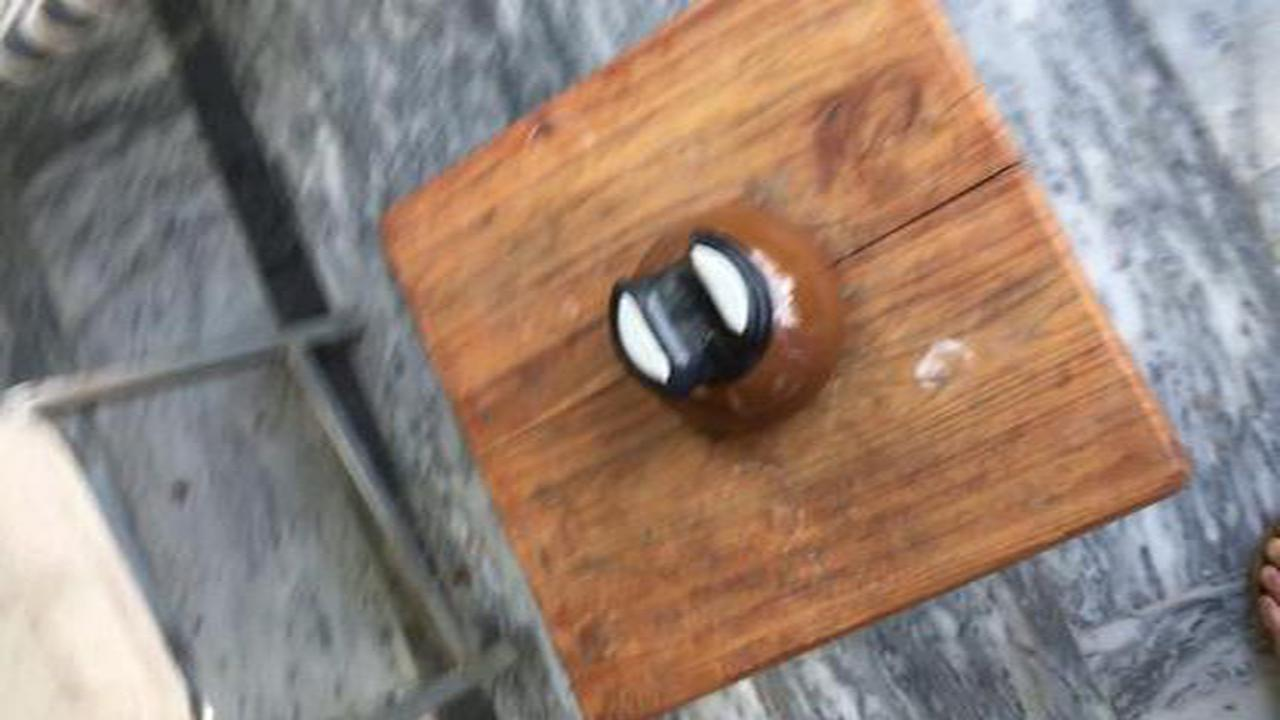insulator_pin: (591, 196, 868, 456)
